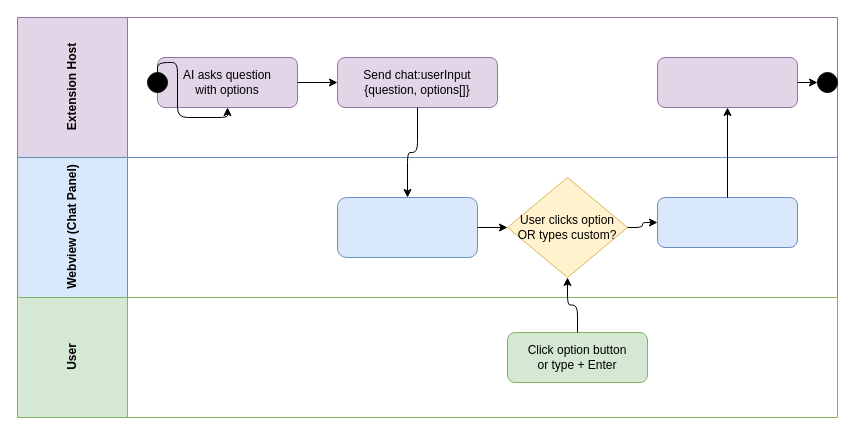
This 855x435 diagram has some shape labels left out. The shapes that lost their labels are listed below. From the top down, each one's centre as x and y in pixels, then its label:
the point at 727,82: Receive chat:userResponse
the point at 407,227: Render option buttons above textarea
the point at 727,222: Send response {text, fromOption}
